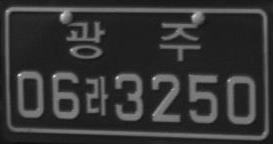0: (224, 74, 257, 125), (15, 70, 45, 118)
2: (150, 73, 181, 123)
3: (113, 72, 144, 122)
5: (186, 72, 219, 125)
6: (50, 71, 80, 120)
광주_D: (65, 17, 202, 62)
라: (84, 75, 108, 117)
